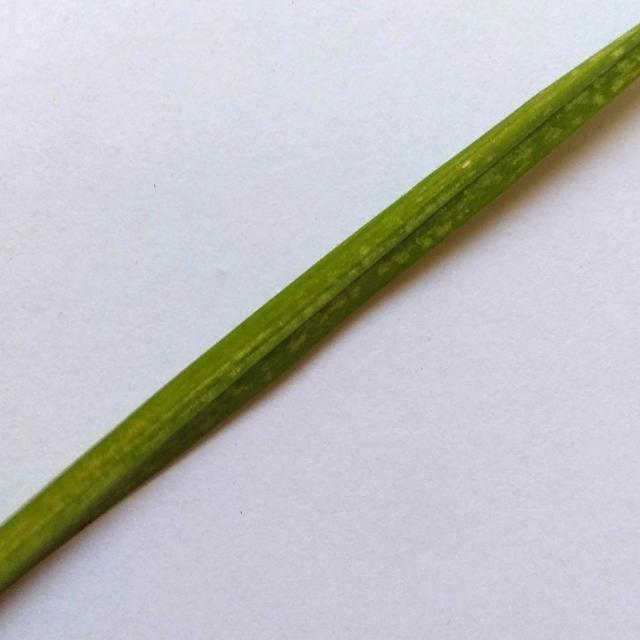Rice_Healthy: (0, 25, 640, 591)
